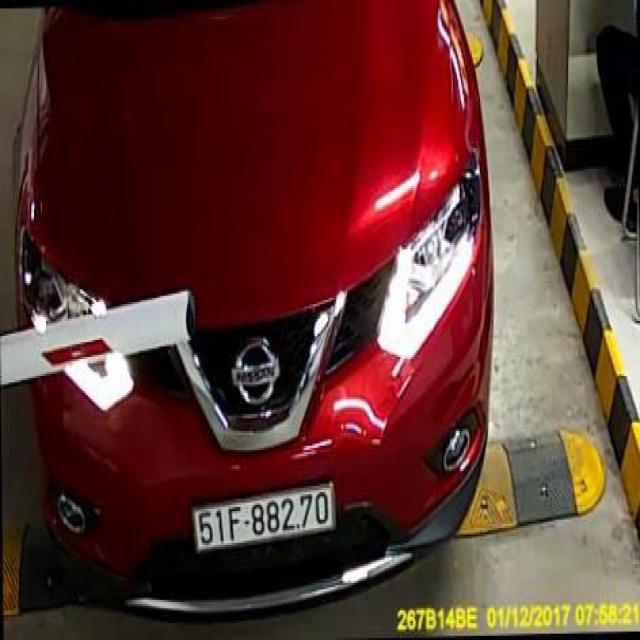License-Plates: (192, 478, 336, 558)
